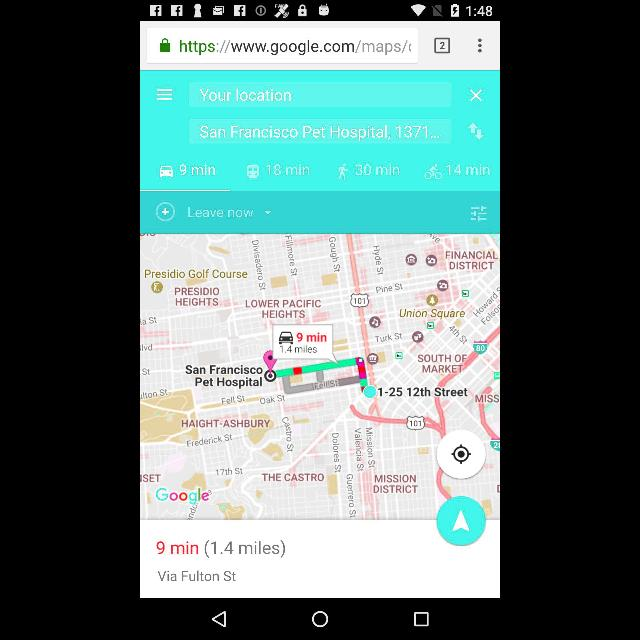button: (436, 496, 486, 546)
icon: (157, 202, 176, 222), (468, 205, 488, 223), (468, 122, 484, 142), (210, 610, 227, 628), (311, 612, 329, 628), (434, 38, 450, 54), (413, 611, 429, 627), (155, 87, 173, 101), (468, 88, 484, 102), (159, 38, 171, 52), (262, 208, 274, 216), (478, 36, 482, 54)
input: (189, 82, 451, 106), (189, 120, 451, 144)
map: (140, 234, 500, 520)
multitab: (140, 154, 500, 190)
panel: (140, 598, 500, 640)
text: (177, 37, 413, 57), (199, 125, 443, 139), (155, 538, 285, 560), (198, 87, 292, 103), (186, 204, 254, 220), (158, 570, 236, 582)
toolbar: (141, 21, 499, 69), (140, 192, 500, 232)
uppertaskbar: (141, 0, 499, 20)
